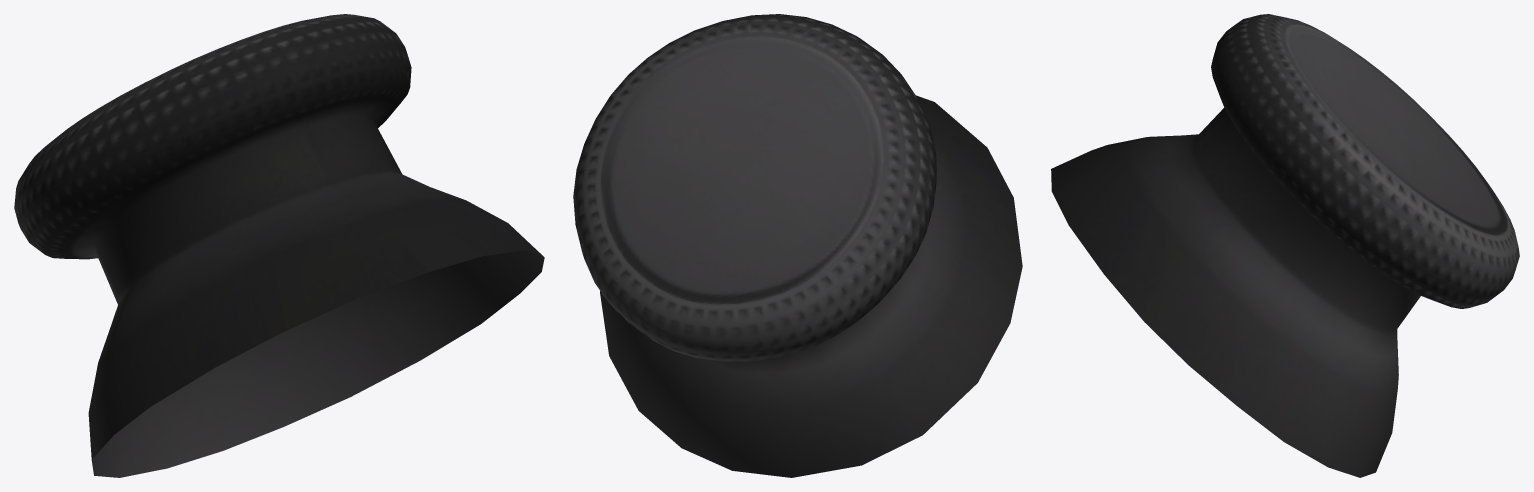
File: R_thumbStick.obj
3 views of the same model, side by side, from view 1: azimuth 30°, elevation 25°; view 2: azimuth 150°, elevation 25°; view 3: azimuth 270°, elevation 25° (orthographic). The views are drawn at different scales.
Parts seen in each view (by area): view 1: R_thumbStick; view 2: R_thumbStick; view 3: R_thumbStick.
Part boxes in pixels (box(x1,y1,x2,y2)): R_thumbStick: box(14, 14, 544, 477); R_thumbStick: box(573, 14, 1022, 477); R_thumbStick: box(1051, 14, 1519, 477).
Bounding box in the file's own units: 0.0145 × 0.0151 × 0.0154.
Materials: 1 (1 with a texture image).
